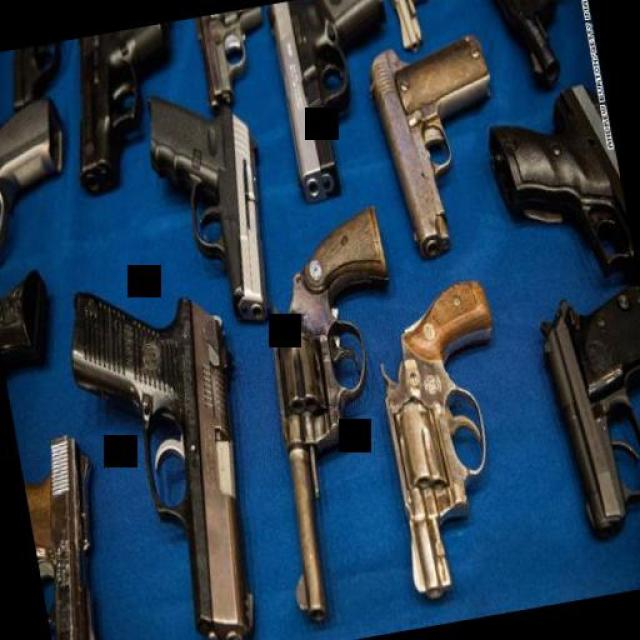gun: (228, 197, 447, 624), (60, 262, 276, 640), (358, 274, 536, 600), (134, 68, 286, 336), (362, 30, 520, 265), (260, 0, 418, 205), (525, 276, 640, 548), (52, 21, 196, 195), (15, 426, 130, 640), (190, 6, 278, 119), (481, 0, 585, 90)
